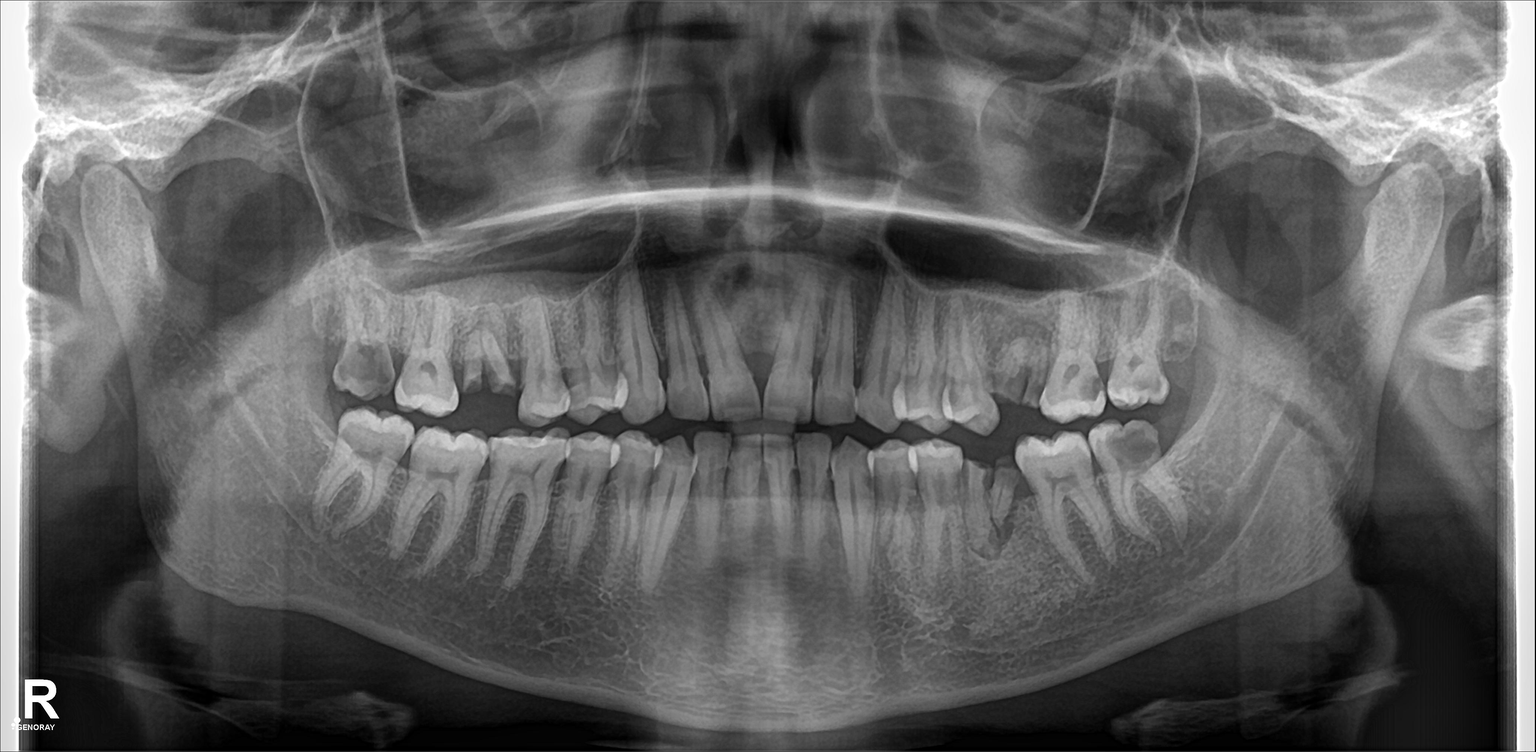Dental Caries: (1110, 434, 1165, 477), (989, 359, 1041, 401), (345, 344, 392, 386), (1061, 361, 1105, 399)
Missing Tooth: (1155, 290, 1211, 401)
Retained Root: (980, 294, 1043, 419), (460, 320, 518, 411), (965, 439, 1012, 551)
